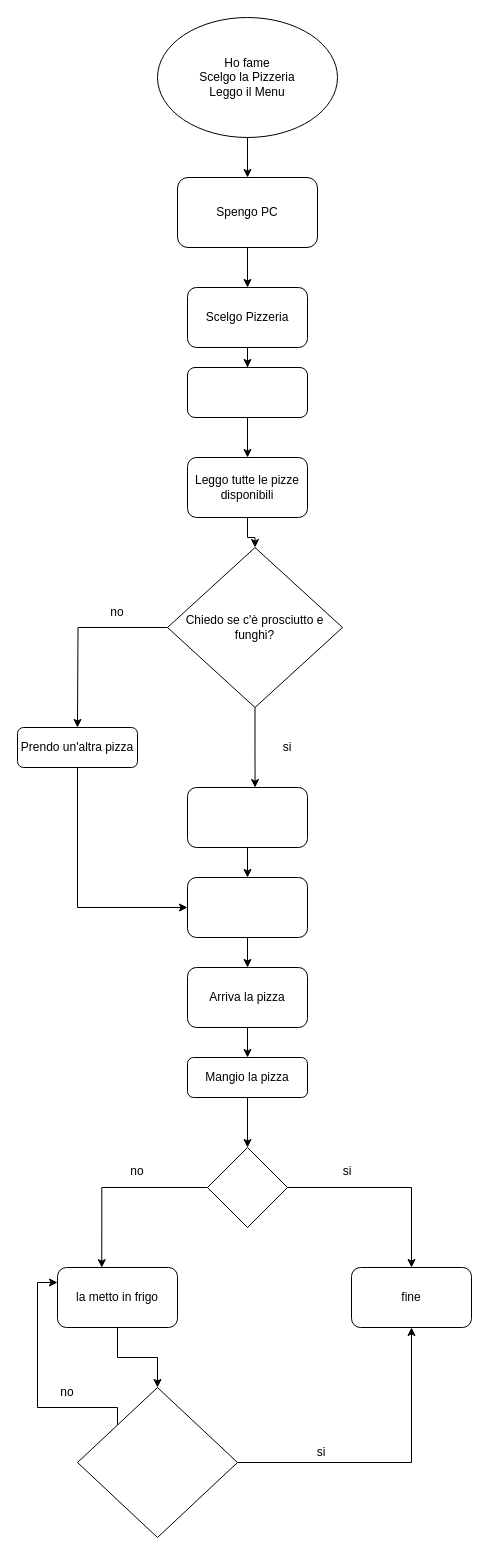
The diagram is 489 pixels wide and 1555 high, and some of its shapes have lost their labels. Here are the shapes that lost their labels. From the top down, the box of each, then its label:
(186, 366, 308, 418): Prendo Menu Pizzeria
(186, 786, 308, 848): Prendo Prosciutto e Funghi
(186, 876, 308, 938): Ordino
(206, 1146, 288, 1228): la finisco?
(76, 1386, 238, 1538): Controllo se la pizza avanzata è in frigo?
